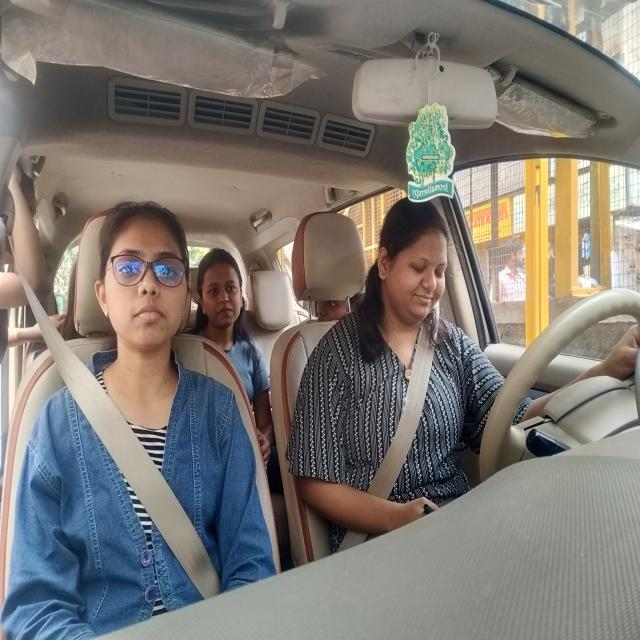drowsy: (363, 178, 461, 364)
person: (97, 179, 195, 367), (191, 244, 251, 364)
